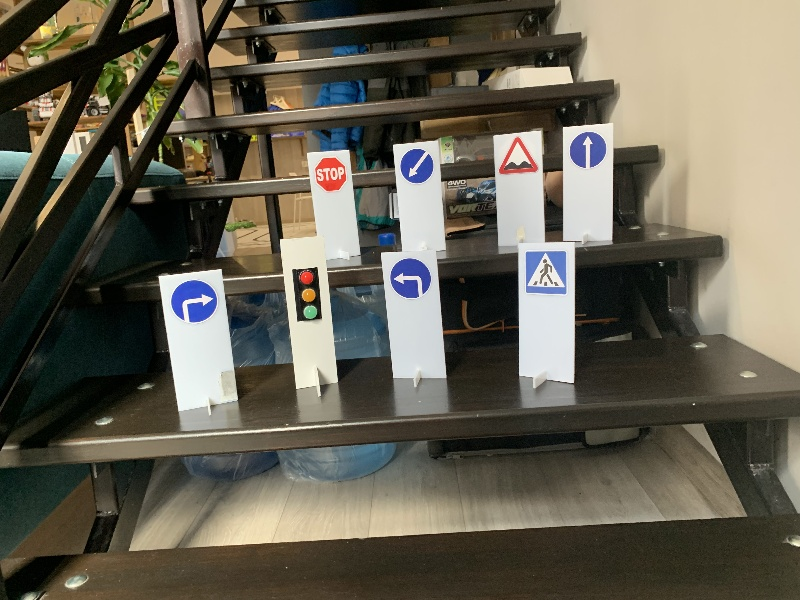Left: (388, 258, 429, 297)
Nerov: (500, 135, 538, 175)
Right: (170, 279, 217, 323)
Stop: (315, 158, 346, 192)
forw: (568, 131, 608, 170)
pesh: (525, 249, 568, 297)
prep: (400, 148, 433, 184)
